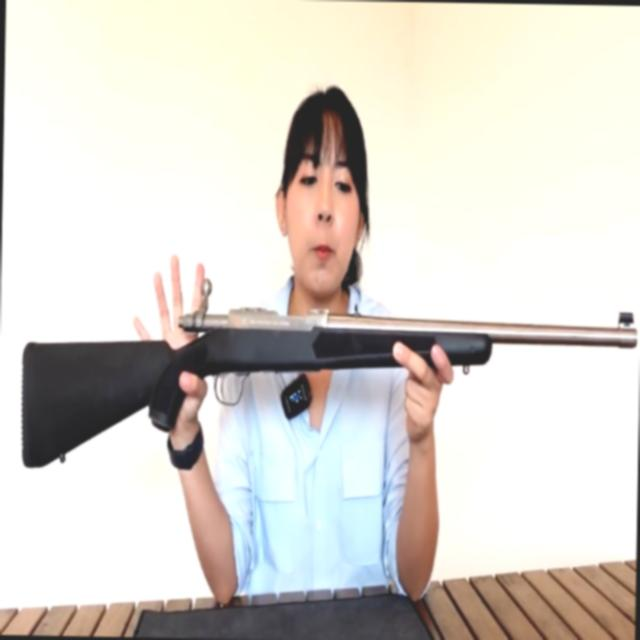rifle: (14, 251, 638, 501)
